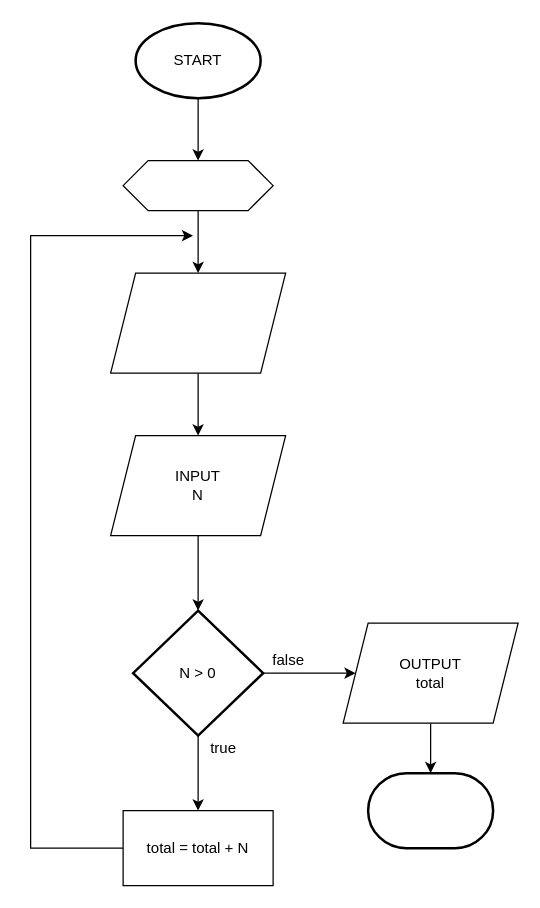
Some shapes in this 540 by 908 pixel diagram are drawn without their labels. Here are the shapes that lost their labels. From the top down, the centre of each, then its label:
(x=197, y=185): total = 0
(x=197, y=322): OUTPUT "Enter a number"
(x=430, y=810): STOP
